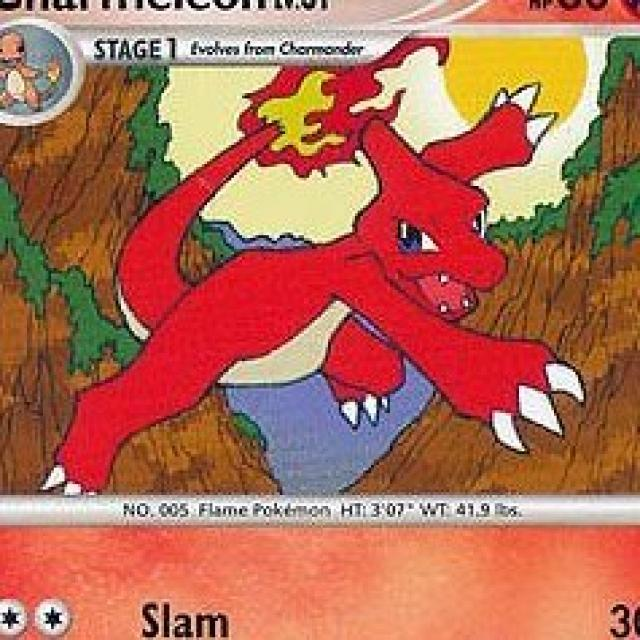Charmeleon: (104, 103, 535, 440)
